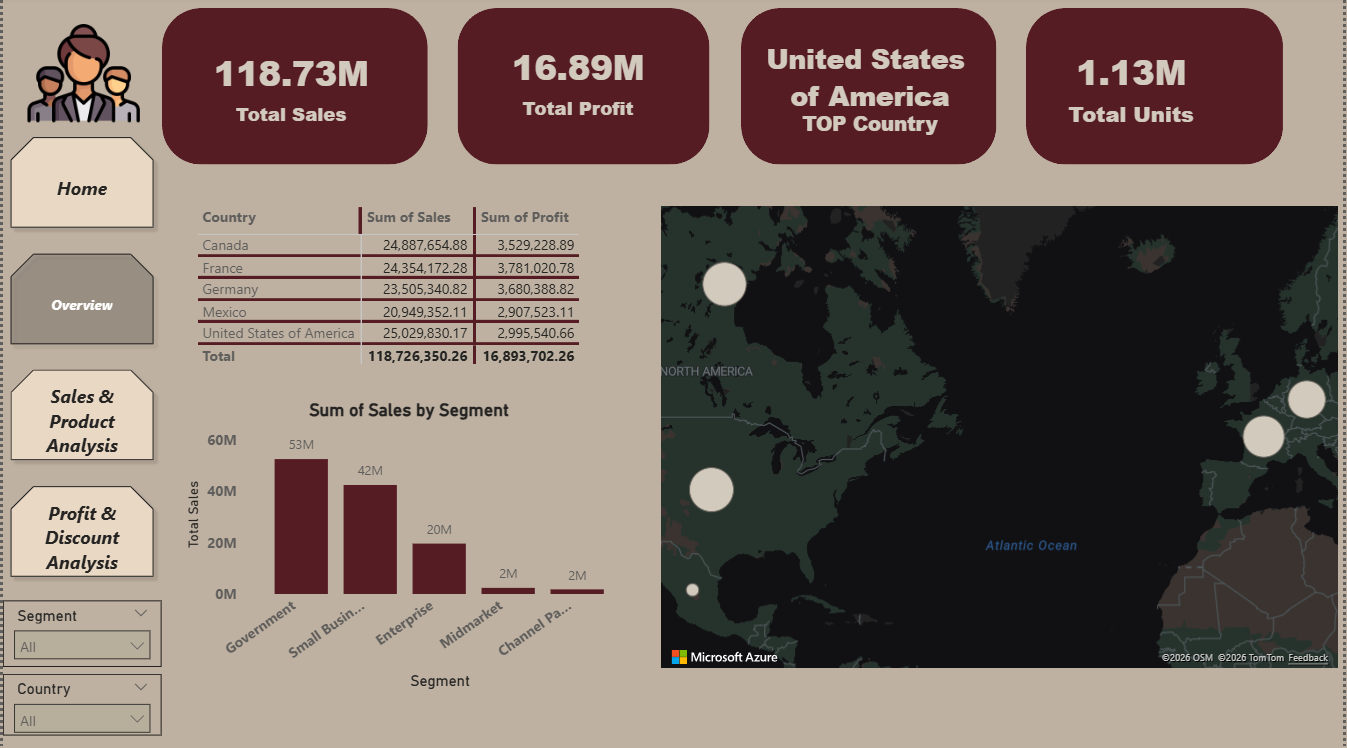

The dashboard page shown, as its layout file describes it:
{"tool":"powerbi","page":{"name":"Overview","canvas":[1280,720],"ordinal":1},"visuals":[{"type":"pageNavigator","box":[0,126.9,151.3,435.9],"z":0},{"type":"shape","box":[977.6,11.4,245.6,149.6],"z":1000},{"type":"shape","box":[704.3,11.4,244,149.6],"z":2000},{"type":"shape","box":[151.3,11.4,253.7,149.6],"z":3000},{"type":"shape","box":[434.3,11.4,240.7,149.6],"z":4000},{"type":"card","fields":{"Values":["financials.Total Units"]},"box":[977.6,22.8,200.1,126.9],"z":5000},{"type":"card","fields":{"Values":["financials.TOP Country"]},"box":[717.3,11.4,219.6,149.6],"z":6000},{"type":"card","fields":{"Values":["financials.Total Profit"]},"box":[445.7,11.4,206.6,138.3],"z":7000},{"type":"card","fields":{"Values":["financials.Total Sales"]},"box":[180.5,22.8,188.7,126.9],"z":8000},{"type":"azureMap","fields":{"Category":["financials.Country"],"Size":["Sum(financials. Sales)"]},"box":[623,195.2,657.1,452.2],"z":9000},{"type":"pivotTable","fields":{"Rows":["financials.Country"],"Values":["Sum(financials. Sales)","Sum(financials.Profit)"]},"box":[180.5,196.8,398.5,188.7],"z":10000},{"type":"columnChart","fields":{"Category":["financials.Segment"],"Y":["Sum(financials. Sales)"]},"box":[169.2,385.5,437.5,281.4],"z":11000},{"type":"slicer","fields":{"Values":["financials.Country"]},"box":[0,647.4,151.3,58.6],"z":12000},{"type":"slicer","fields":{"Values":["financials.Segment"]},"box":[0,577.4,151.3,63.4],"z":13000},{"type":"image","box":[9.8,19.5,133.4,107.4],"z":14000}]}

Visuals, with their boxes in screenshot pixels (x1, y1, x2, y2), scaled from the page's 1280x720 canvas onto the 1347x748 screenshot:
pageNavigator: region(0, 132, 159, 585)
shape: region(1029, 12, 1287, 167)
shape: region(741, 12, 998, 167)
shape: region(159, 12, 426, 167)
shape: region(457, 12, 710, 167)
card - financials.Total Units: region(1029, 24, 1239, 156)
card - financials.TOP Country: region(755, 12, 986, 167)
card - financials.Total Profit: region(469, 12, 686, 156)
card - financials.Total Sales: region(190, 24, 389, 156)
azureMap - financials.Country x Sum(financials. Sales): region(656, 203, 1346, 673)
pivotTable - financials.Country x Sum(financials. Sales): region(190, 204, 609, 400)
columnChart - financials.Segment x Sum(financials. Sales): region(178, 400, 638, 693)
slicer - financials.Country: region(0, 673, 159, 733)
slicer - financials.Segment: region(0, 600, 159, 666)
image: region(10, 20, 151, 132)
